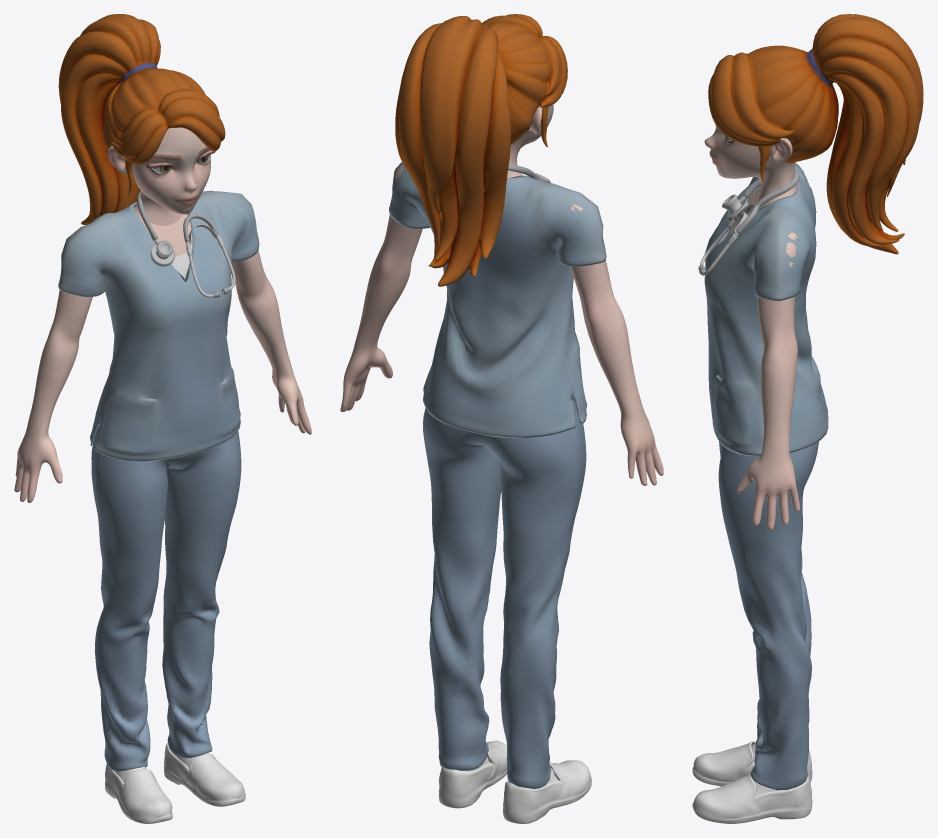
Rendered from nurse.glb.
The picture shows the model from 3 angles, left to right: view 1: azimuth 30°, elevation 25°; view 2: azimuth 150°, elevation 25°; view 3: azimuth 270°, elevation 25°; orthographic projection. The views are drawn at different scales.
Parts seen in each view (by area): view 1: pants, shirt, hair, arm, head, th2, th1; view 2: pants, shirt, hair, arm, th2, head; view 3: hair, shirt, pants, arm, th2, head, th1.
Boxes of the visible parts, x1,y1,x2,y2 form: pants: (91,428,241,771); shirt: (58,190,259,461); hair: (58,14,225,224); arm: (14,230,311,502); head: (107,127,215,278); th2: (105,742,245,823); th1: (137,190,235,297); pants: (423,401,586,788); shirt: (389,162,606,437); hair: (395,14,567,286); arm: (340,165,663,485); th2: (438,740,591,823); head: (507,104,553,178); hair: (708,14,923,254); shirt: (704,162,828,455); pants: (718,441,818,790); arm: (736,189,799,530); th2: (692,741,812,823); head: (704,125,796,239); th1: (698,169,799,275).
Bounding box in the file's own units: 0.692 × 1.73 × 0.4643.
Materials: 8 (8 with a texture image).
